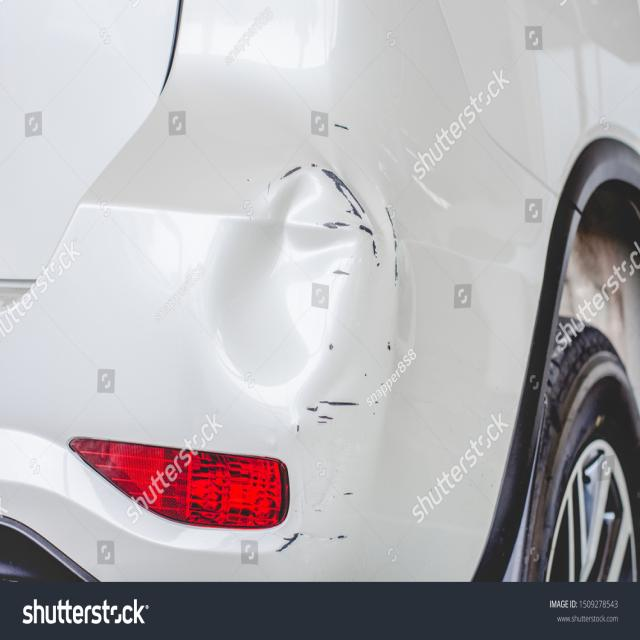dent: (188, 140, 382, 414)
scratch: (386, 200, 402, 286), (272, 524, 309, 560), (326, 525, 352, 550), (334, 113, 354, 135), (329, 485, 358, 499)
